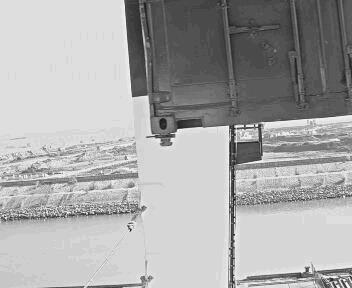twist_lock_1: (150, 129, 178, 151)
